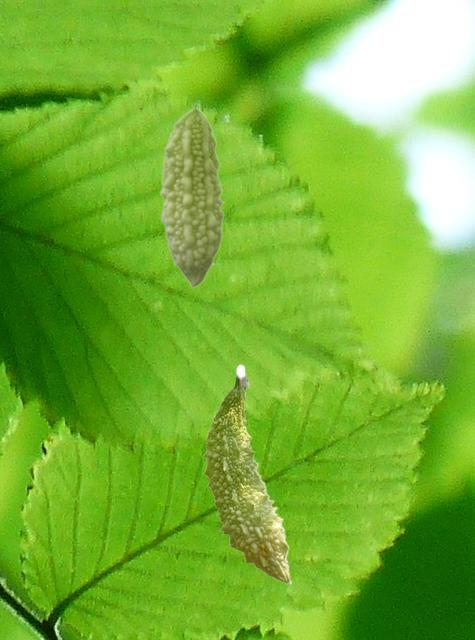ampalaya: (201, 362, 294, 586), (159, 107, 224, 288)
